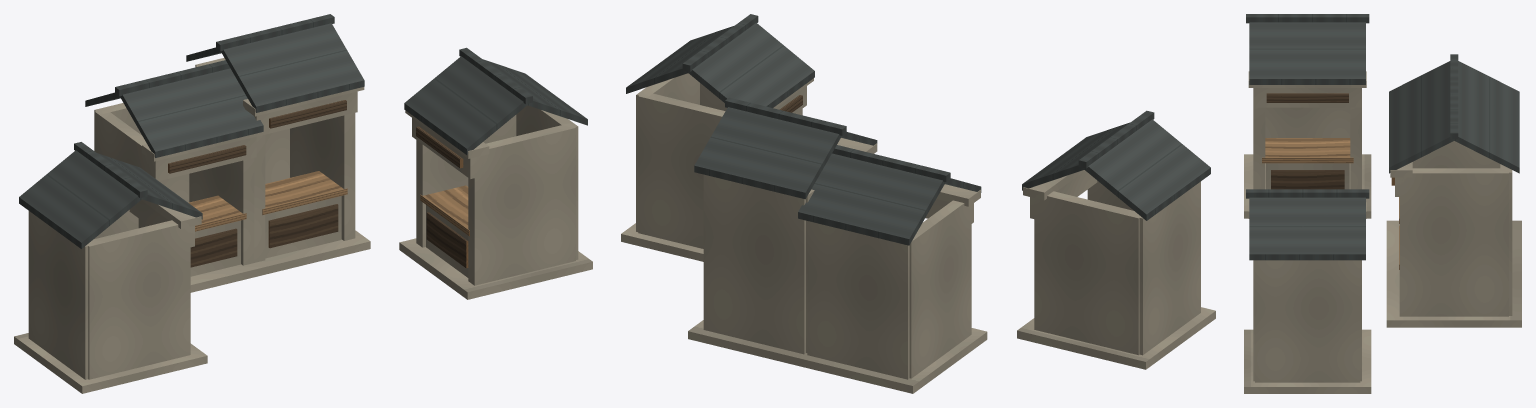
File: awka.glb
3 renders of one model, left to right at view 1: azimuth 30°, elevation 25°; view 2: azimuth 150°, elevation 25°; view 3: azimuth 270°, elevation 25°, orthographic. The views are drawn at different scales.
Parts seen in each view (by area): view 1: awka; view 2: awka; view 3: awka.
Part boxes in pixels (x1,y1,x2,y2): awka: (14, 14, 592, 393); awka: (621, 14, 1215, 393); awka: (1244, 14, 1521, 393).
Size of the model in its own units: 6.44 by 2.5 by 3.25.
1 material, 1 textured.
